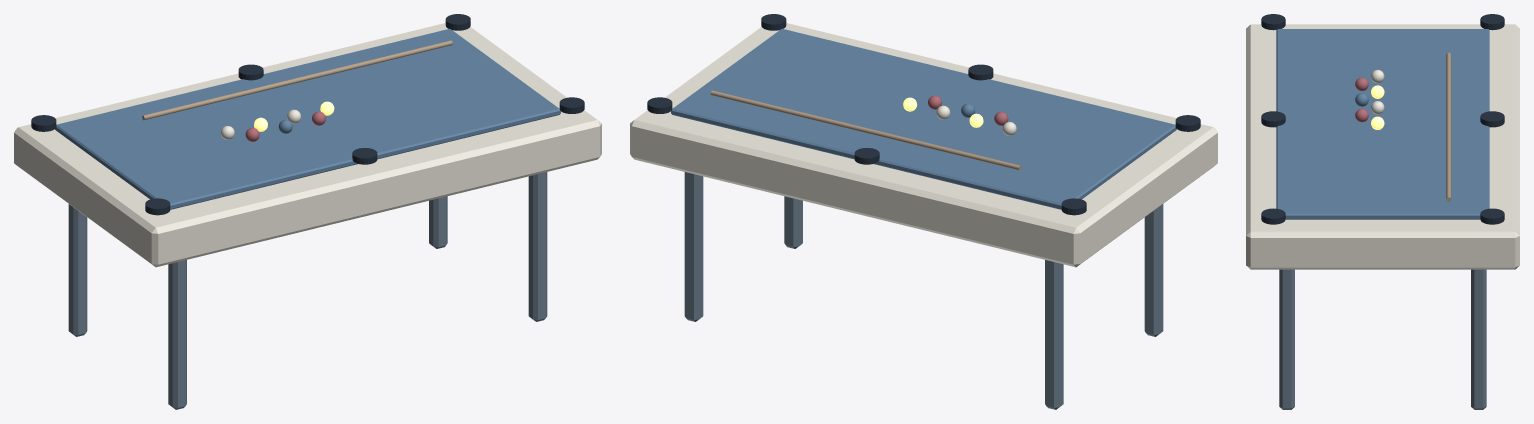
The model's file is lounge_08.glb.
The picture shows the model from 3 angles, left to right: view 1: azimuth 30°, elevation 25°; view 2: azimuth 150°, elevation 25°; view 3: azimuth 270°, elevation 25°; orthographic projection. The views are drawn at different scales.
Parts seen in each view (by area): view 1: PoolCloth, PoolBody, Leg (×4), PoolCue; view 2: PoolCloth, PoolBody, Leg (×4), PoolCue; view 3: PoolCloth, PoolBody, Leg (×2), Pocket (×6), PoolCue.
Part boxes in pixels (left/top/right/bottom): PoolCloth: left=55, top=28, right=560, bottom=209; PoolBody: left=14, top=23, right=601, bottom=267; Leg (×4): left=68, top=172, right=547, bottom=409; PoolCue: left=142, top=40, right=452, bottom=120; PoolCloth: left=671, top=28, right=1176, bottom=209; PoolBody: left=630, top=23, right=1217, bottom=267; Leg (×4): left=684, top=172, right=1163, bottom=409; PoolCue: left=710, top=90, right=1021, bottom=170; PoolCloth: left=1276, top=29, right=1489, bottom=219; PoolBody: left=1246, top=24, right=1519, bottom=269; Leg (×2): left=1279, top=269, right=1486, bottom=409; Pocket (×6): left=1261, top=14, right=1504, bottom=224; PoolCue: left=1446, top=52, right=1451, bottom=201.
Size of the model in its own units: 1.9 by 0.898 by 1.04.
